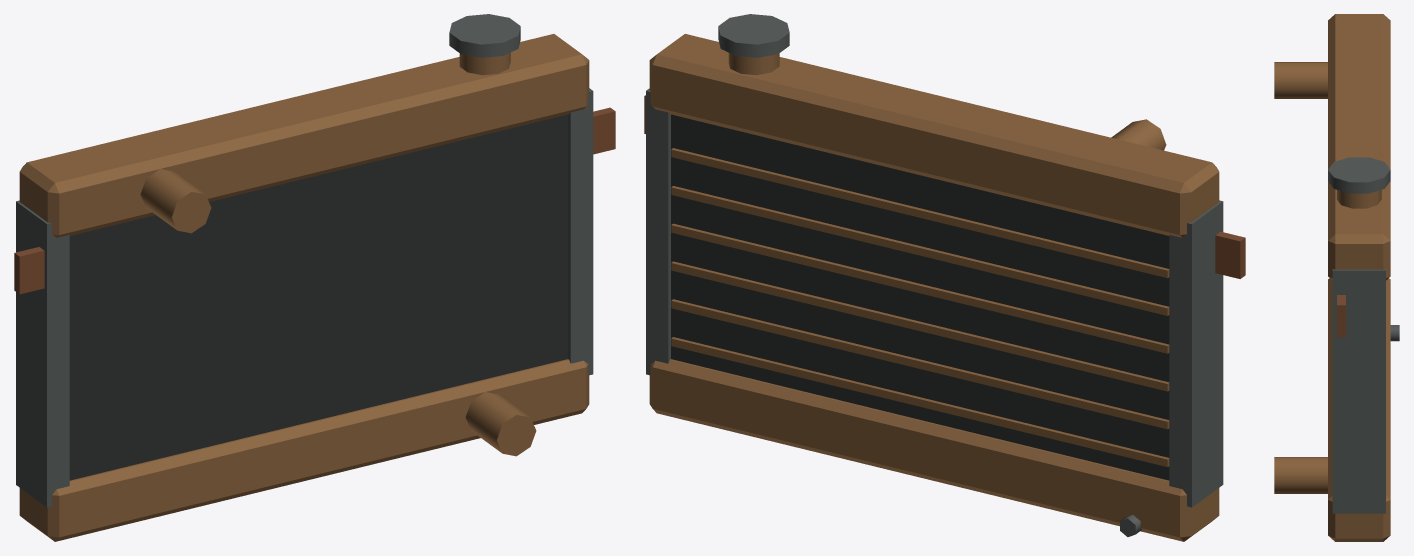
Rendered from part_radiator_std.glb.
3 views of the same model, side by side, from view 1: azimuth 30°, elevation 25°; view 2: azimuth 150°, elevation 25°; view 3: azimuth 270°, elevation 25° (orthographic). The views are drawn at different scales.
Visible parts, largest first — view 1: part_radiator_std; view 2: part_radiator_std; view 3: part_radiator_std.
Boxes of the visible parts, x1,y1,x2,y2 form: part_radiator_std: [14, 14, 615, 541]; part_radiator_std: [644, 14, 1245, 541]; part_radiator_std: [1274, 14, 1399, 541].
Bounding box in the file's own units: 0.66 × 0.417 × 0.14.
